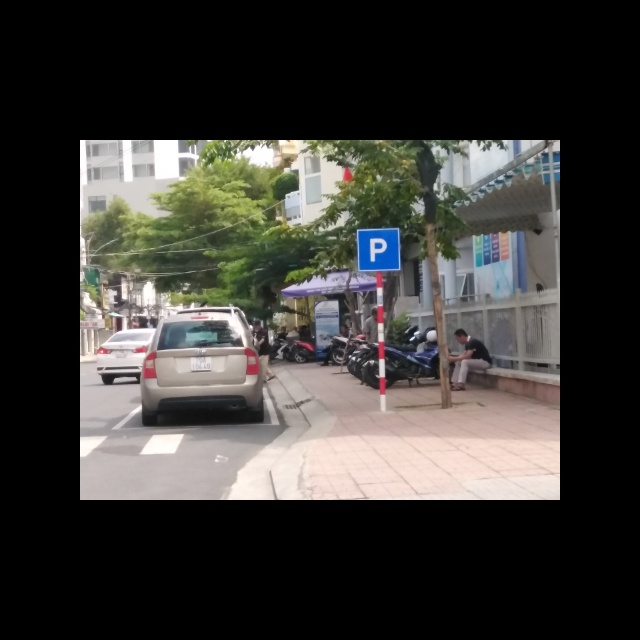Nơi đỗ xe: (356, 227, 402, 272)
